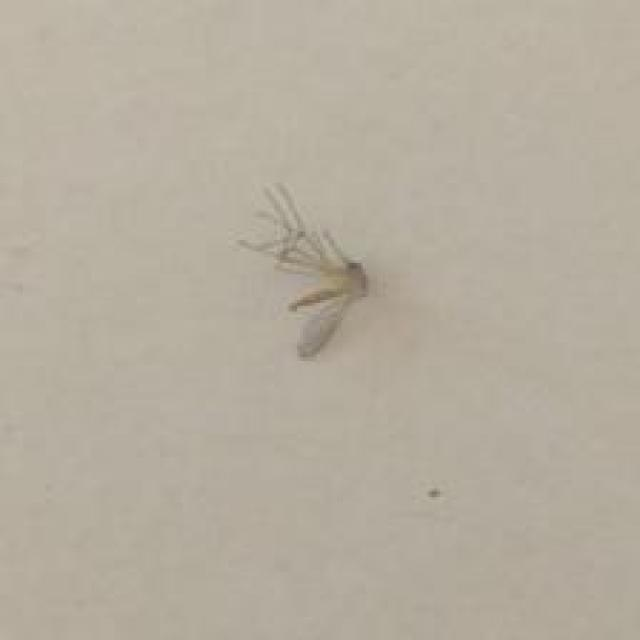Culex: (236, 180, 370, 360)
